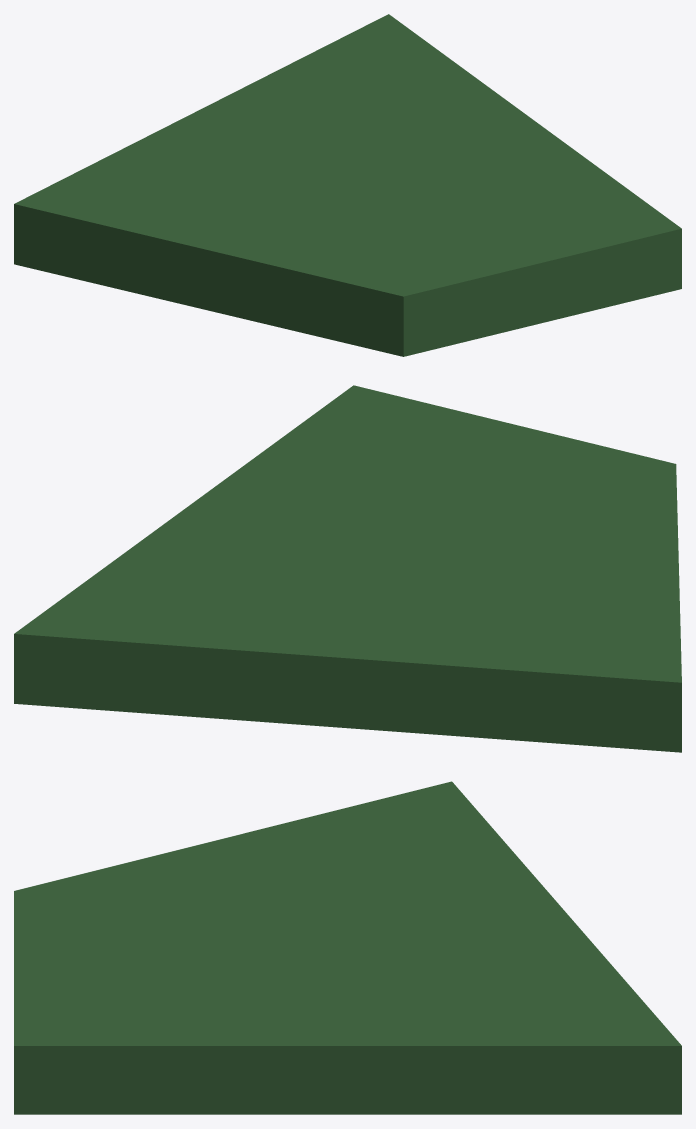
File: x_proval_00_26_1_rmstrd.fbx
3 renders of one model, top to bottom at view 1: azimuth 30°, elevation 25°; view 2: azimuth 150°, elevation 25°; view 3: azimuth 270°, elevation 25°, orthographic. The views are drawn at different scales.
Parts seen in each view (by area): view 1: x_proval_00_26_1_rmstrd1; view 2: x_proval_00_26_1_rmstrd1; view 3: x_proval_00_26_1_rmstrd1.
Boxes of the visible parts, box(x1,y1,x2,y2) form: x_proval_00_26_1_rmstrd1: box(14, 14, 681, 356); x_proval_00_26_1_rmstrd1: box(14, 385, 681, 752); x_proval_00_26_1_rmstrd1: box(14, 781, 681, 1114).
Size of the model in its own units: 1.65 by 0.2 by 1.76.
